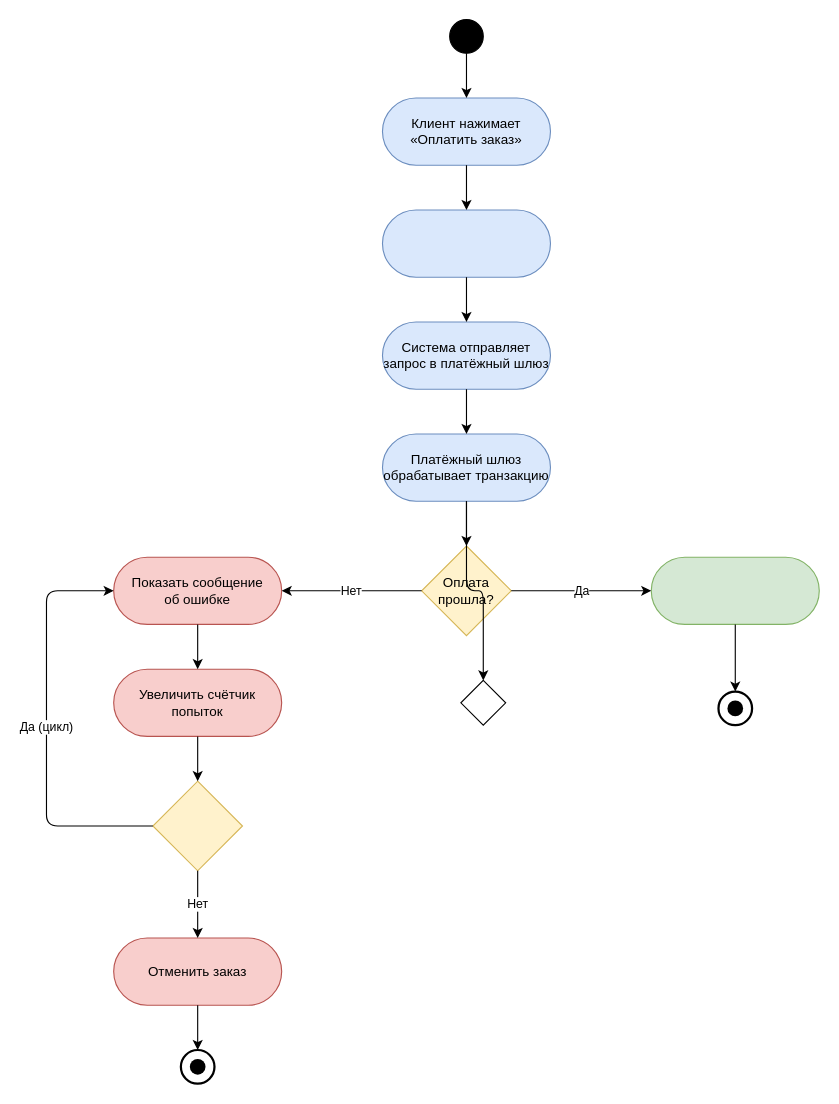
The diagram is 839 pixels wide and 1104 high, and some of its shapes have lost their labels. Each missing label, with the box of its shape:
Заказ отправлен в ресторан: (650, 556, 819, 624)
Попыток < 3?: (152, 780, 242, 871)
Проверить баланс карты: (381, 209, 550, 277)
